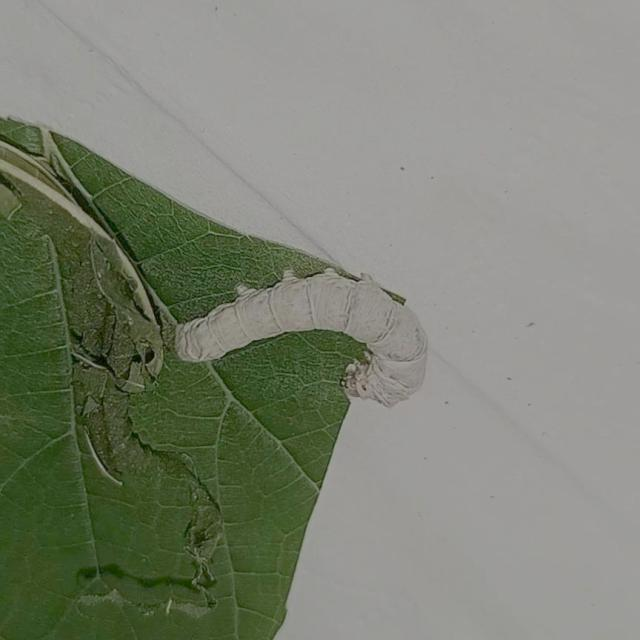Healthy: (163, 254, 441, 420)
